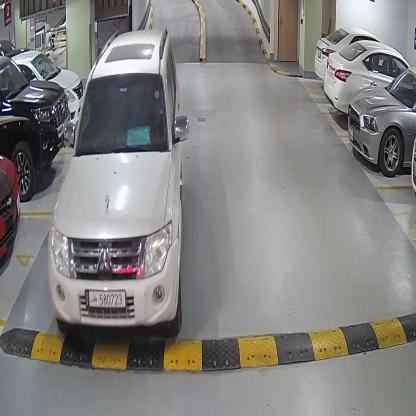np: (84, 291, 126, 309)
